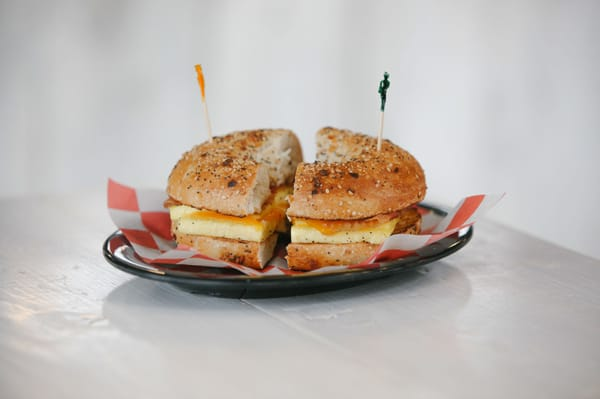soup: (285, 126, 428, 271), (162, 127, 303, 271)
